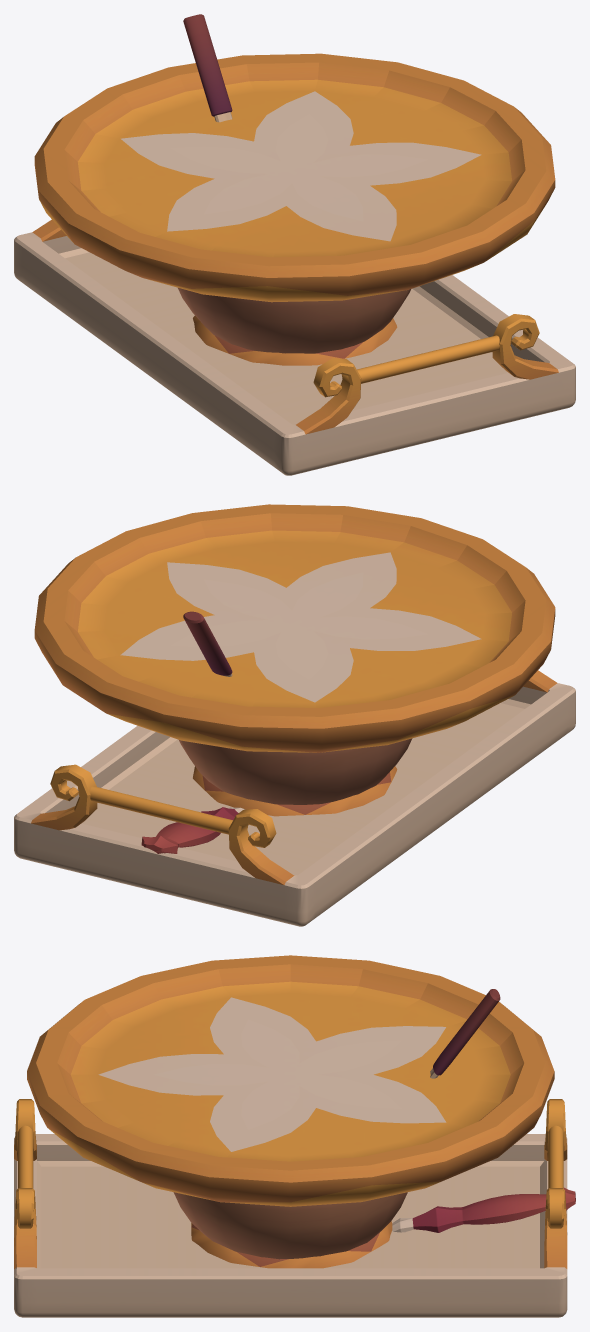
Rendered from Tarjoiluastioita.fbx.
The picture shows the model from 3 angles, top to bottom: view 1: azimuth 30°, elevation 25°; view 2: azimuth 150°, elevation 25°; view 3: azimuth 270°, elevation 25°; orthographic projection.
Visible parts, largest first — view 1: Kakkuteline, Tarjotin, Hedelmakulho, KeittoKauha; view 2: Kakkuteline, Tarjotin, Hedelmakulho, Kakkulapio, KeittoKauha; view 3: Kakkuteline, Tarjotin, Hedelmakulho, Kakkulapio, KeittoKauha.
Boxes of the visible parts, x1,y1,x2,y2 form: Kakkuteline: (34, 53, 555, 365); Tarjotin: (14, 219, 575, 475); Hedelmakulho: (178, 288, 410, 353); KeittoKauha: (183, 14, 232, 122); Kakkuteline: (34, 504, 555, 816); Tarjotin: (14, 670, 575, 926); Hedelmakulho: (179, 738, 412, 804); Kakkulapio: (141, 807, 244, 853); KeittoKauha: (183, 611, 232, 676); Kakkuteline: (27, 955, 554, 1268); Tarjotin: (14, 1099, 567, 1317); Hedelmakulho: (173, 1192, 407, 1259); Kakkulapio: (392, 1187, 575, 1232); KeittoKauha: (430, 989, 500, 1078).
Size of the model in its own units: 1.54 by 0.8304 by 1.65.
